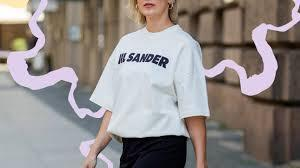Tshirt: (89, 23, 212, 138)
